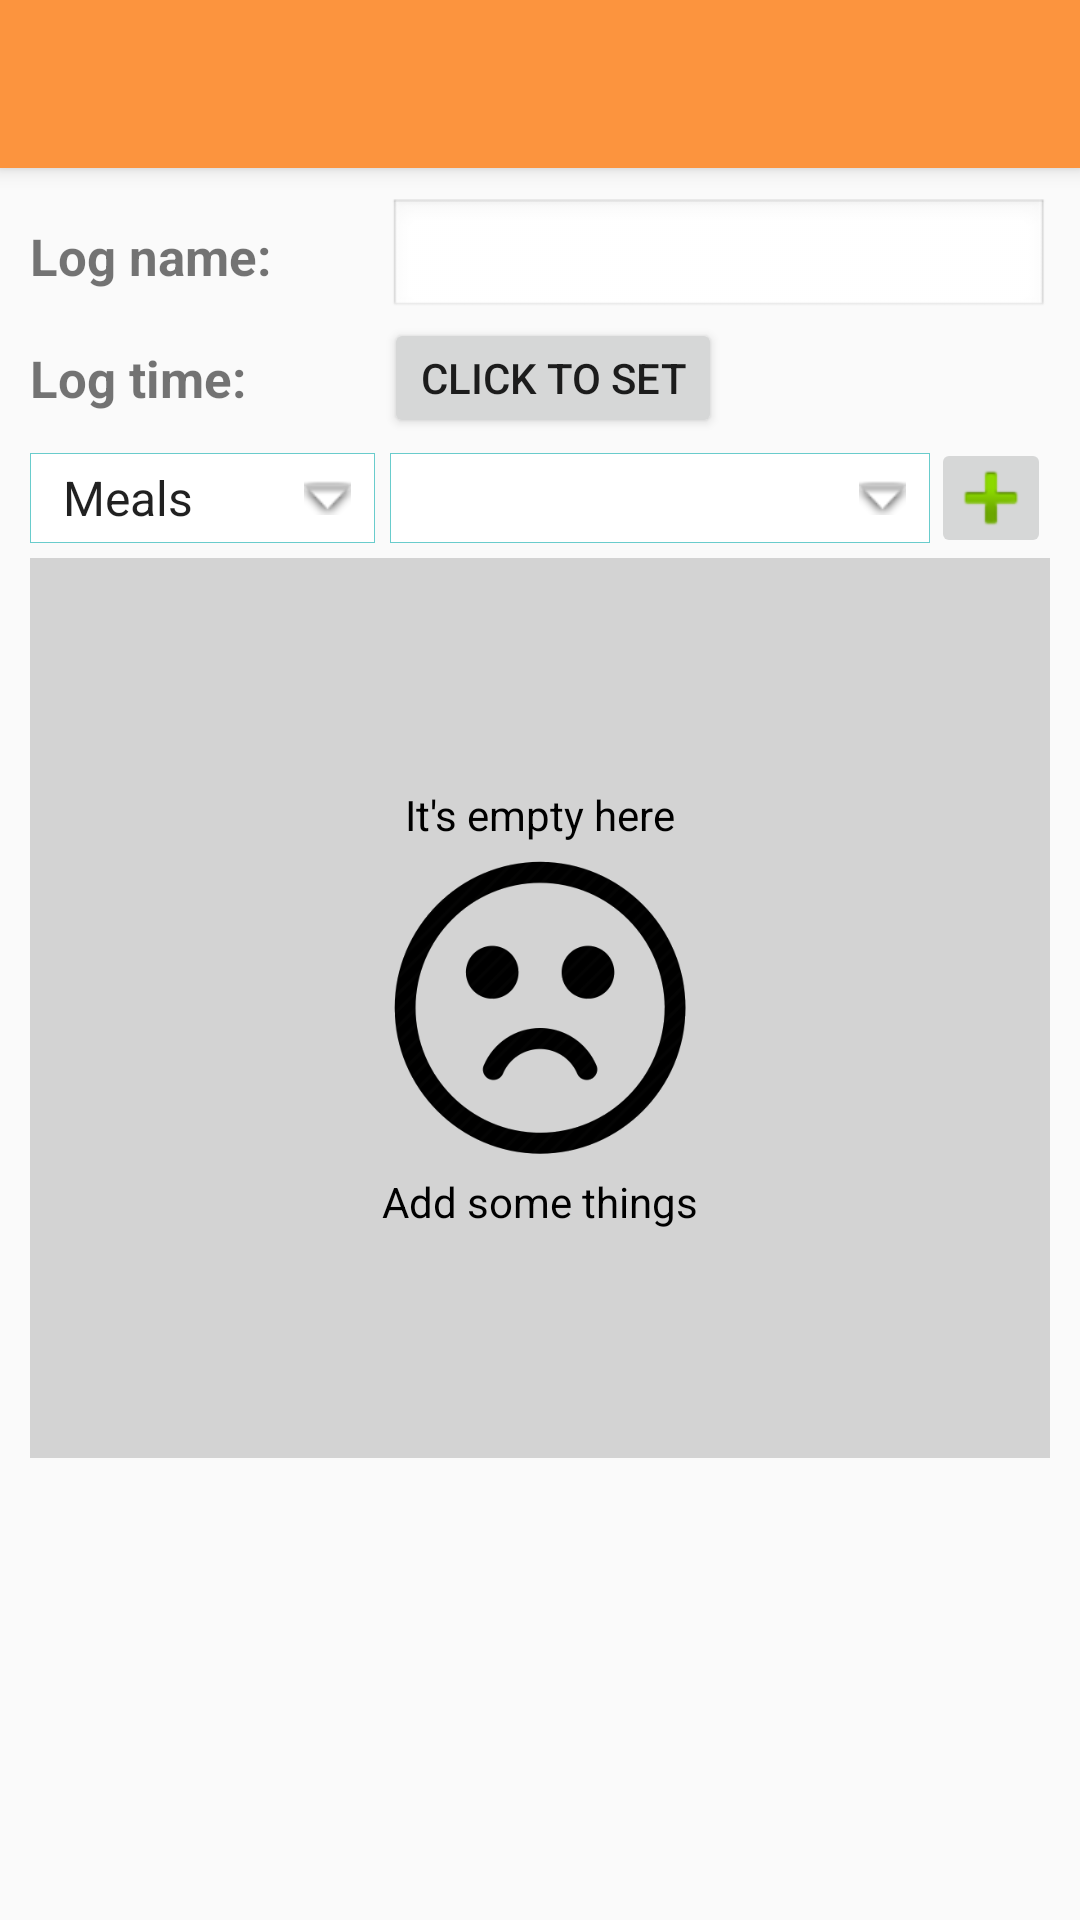

Screen size 1080 × 1920. Icon name, then its center in pixels as (x=x, y=y):
add: (x=991, y=498)
sad face: (x=540, y=1007)
